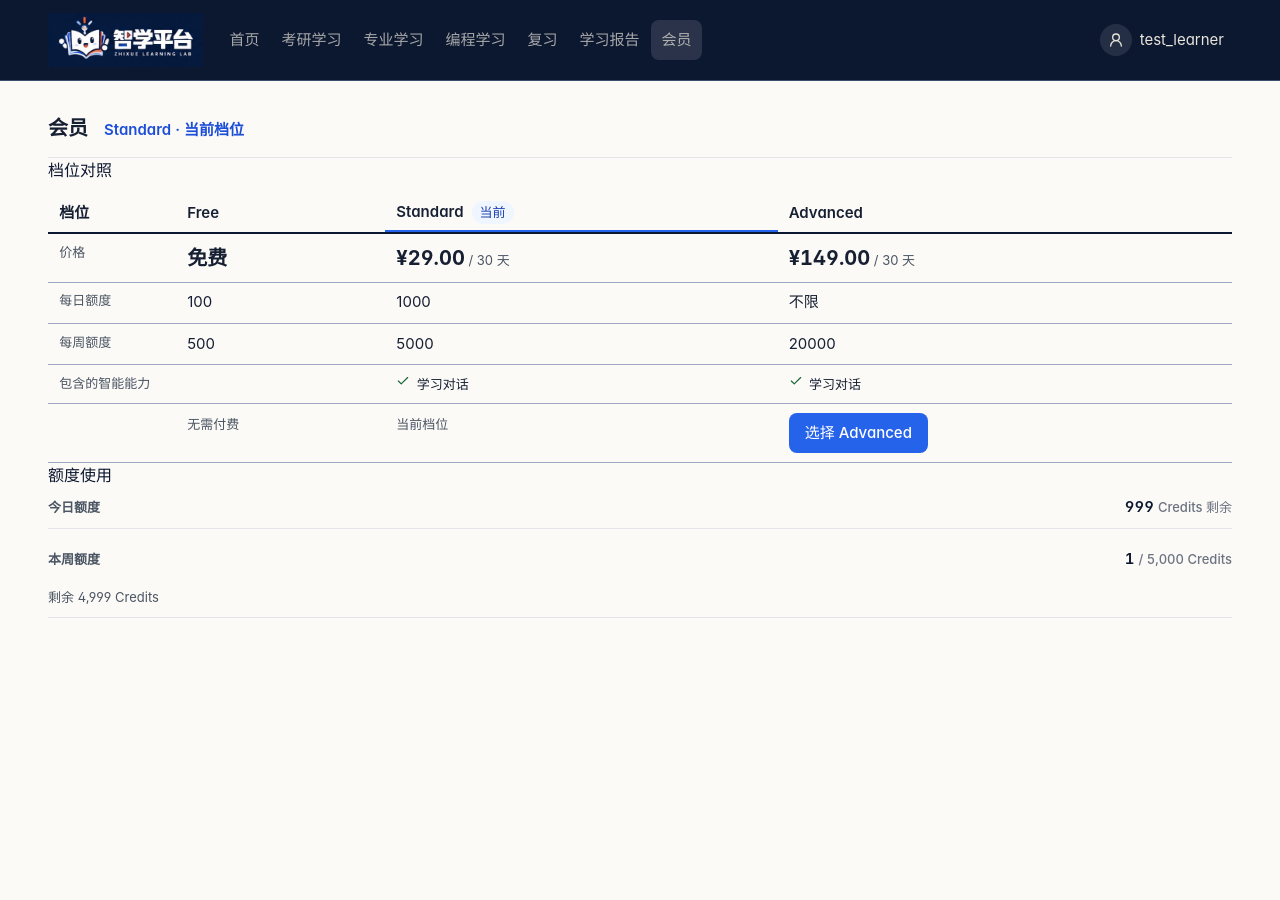
Test case: membership → payment route › mounts the checkout when the learner clicks the upgrade, and says where it went
The image size is (1280, 900).
Expected: the element named "档位价格与权益对照" is shown, [48, 193, 1232, 463]
// Only a non-current, orderable tier has a 选择 link — the current tier says 当前档位.
Click the link "选择 Advanced".
click(858, 433)  # box [789, 413, 928, 453]
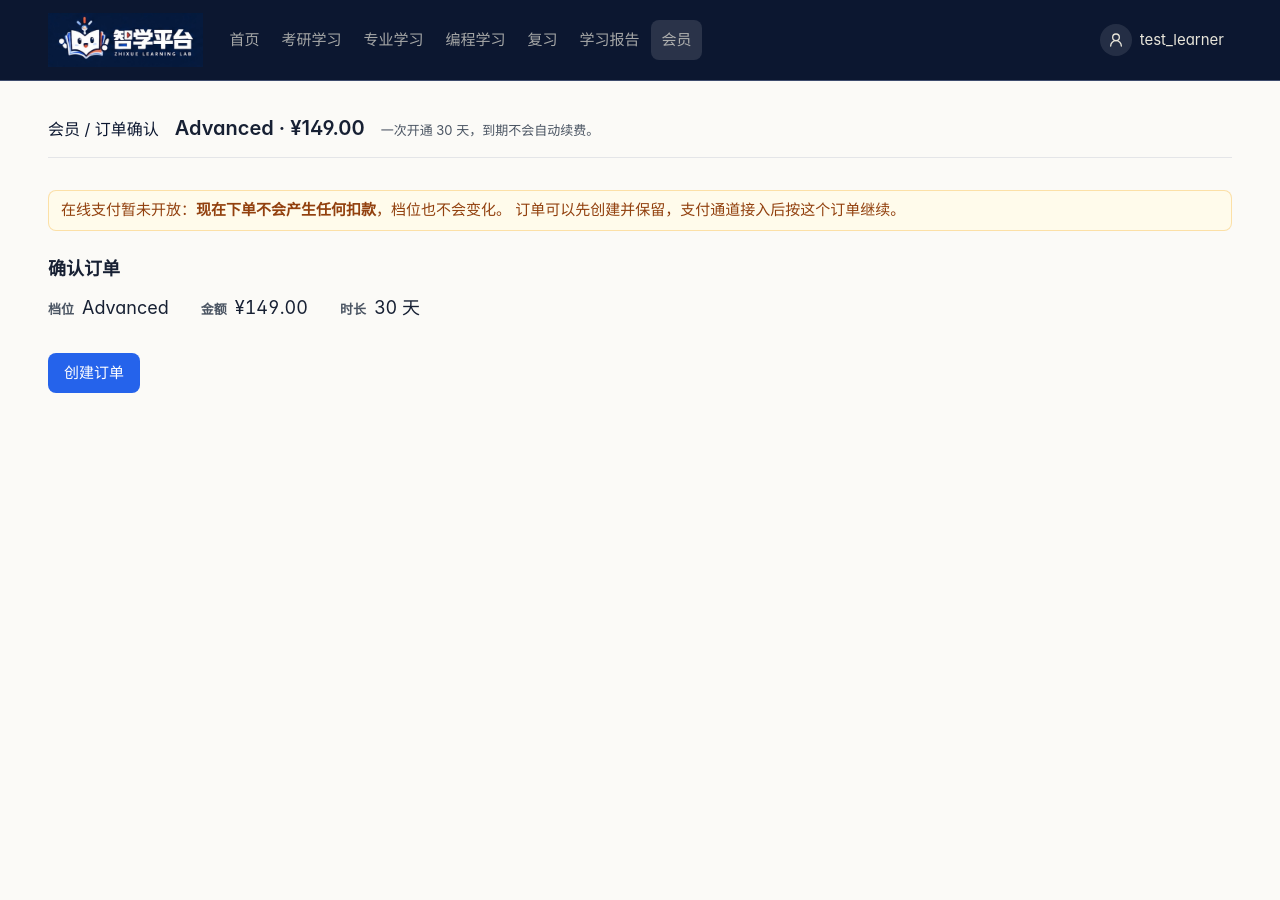
Now the heading "Advanced · ¥149.00" is shown, box [175, 113, 365, 143]
Now the button "创建订单" is shown, box [48, 353, 140, 393]
